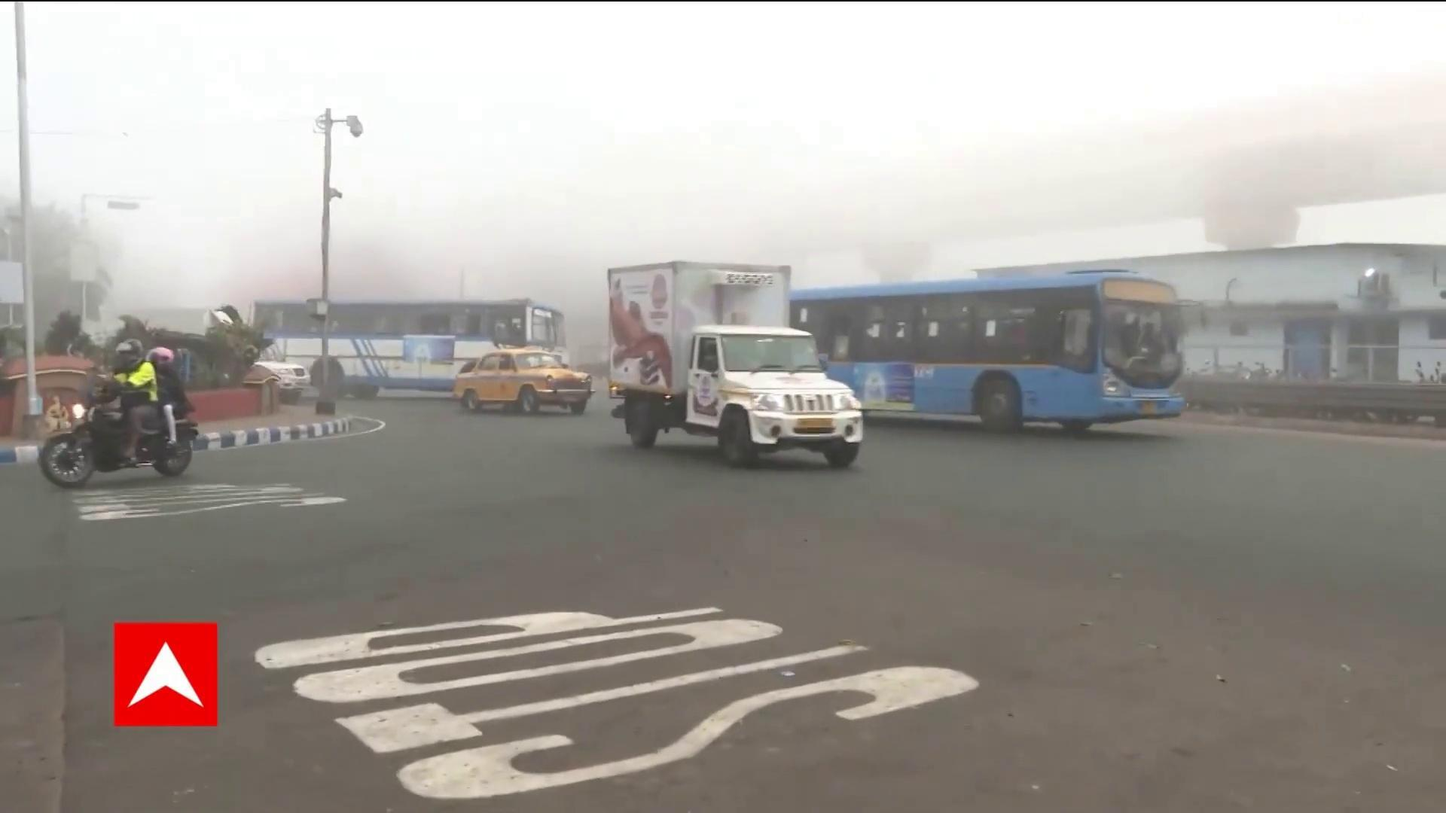Bike: (43, 346, 188, 487)
Bus: (790, 264, 1184, 442), (252, 291, 563, 400)
Car: (449, 342, 590, 418)
Truck: (594, 256, 863, 475)
